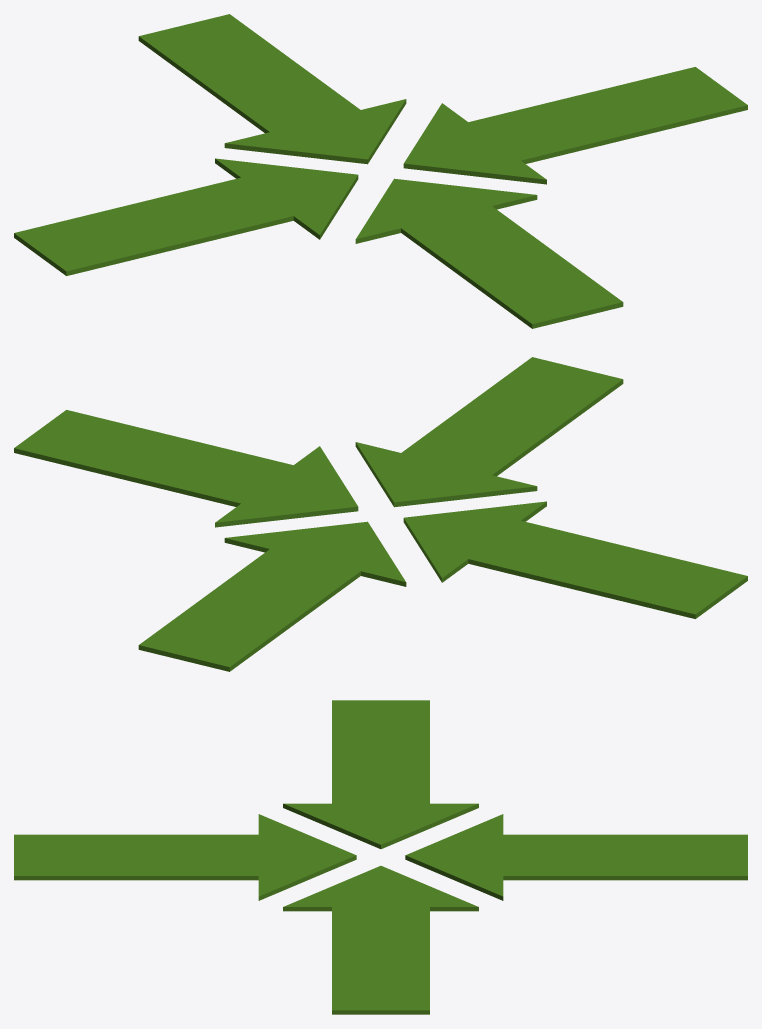
File: ClickArrowFull.fbx
3 renders of one model, top to bottom at view 1: azimuth 30°, elevation 25°; view 2: azimuth 150°, elevation 25°; view 3: azimuth 270°, elevation 25°, orthographic. The views are drawn at different scales.
Visible parts, largest first — view 1: Cube.001, Cube, Cube.003, Cube.002; view 2: Cube.001, Cube, Cube.003, Cube.002; view 3: Cube.003, Cube.002, Cube.001, Cube.
Part boxes in pixels (bbox=[...]): Cube.001: bbox=[403, 67, 747, 184]; Cube: bbox=[14, 158, 358, 275]; Cube.003: bbox=[355, 178, 623, 328]; Cube.002: bbox=[138, 14, 406, 164]; Cube.001: bbox=[14, 410, 358, 527]; Cube: bbox=[403, 501, 747, 618]; Cube.003: bbox=[355, 357, 623, 507]; Cube.002: bbox=[138, 521, 406, 671]; Cube.003: bbox=[14, 814, 356, 900]; Cube.002: bbox=[405, 814, 747, 900]; Cube.001: bbox=[283, 866, 478, 1014]; Cube: bbox=[283, 700, 478, 848].
Size of the model in its own units: 150 by 1 by 150.
